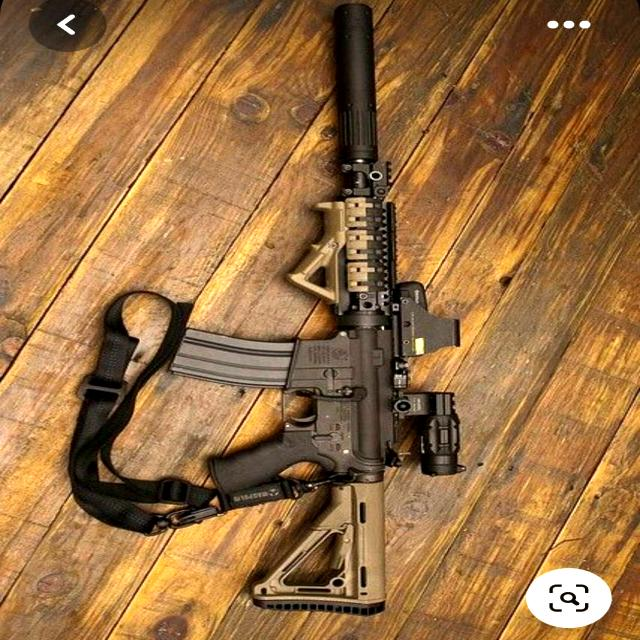m16: (116, 6, 518, 626)
